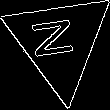N_E: (33, 19, 86, 65)
